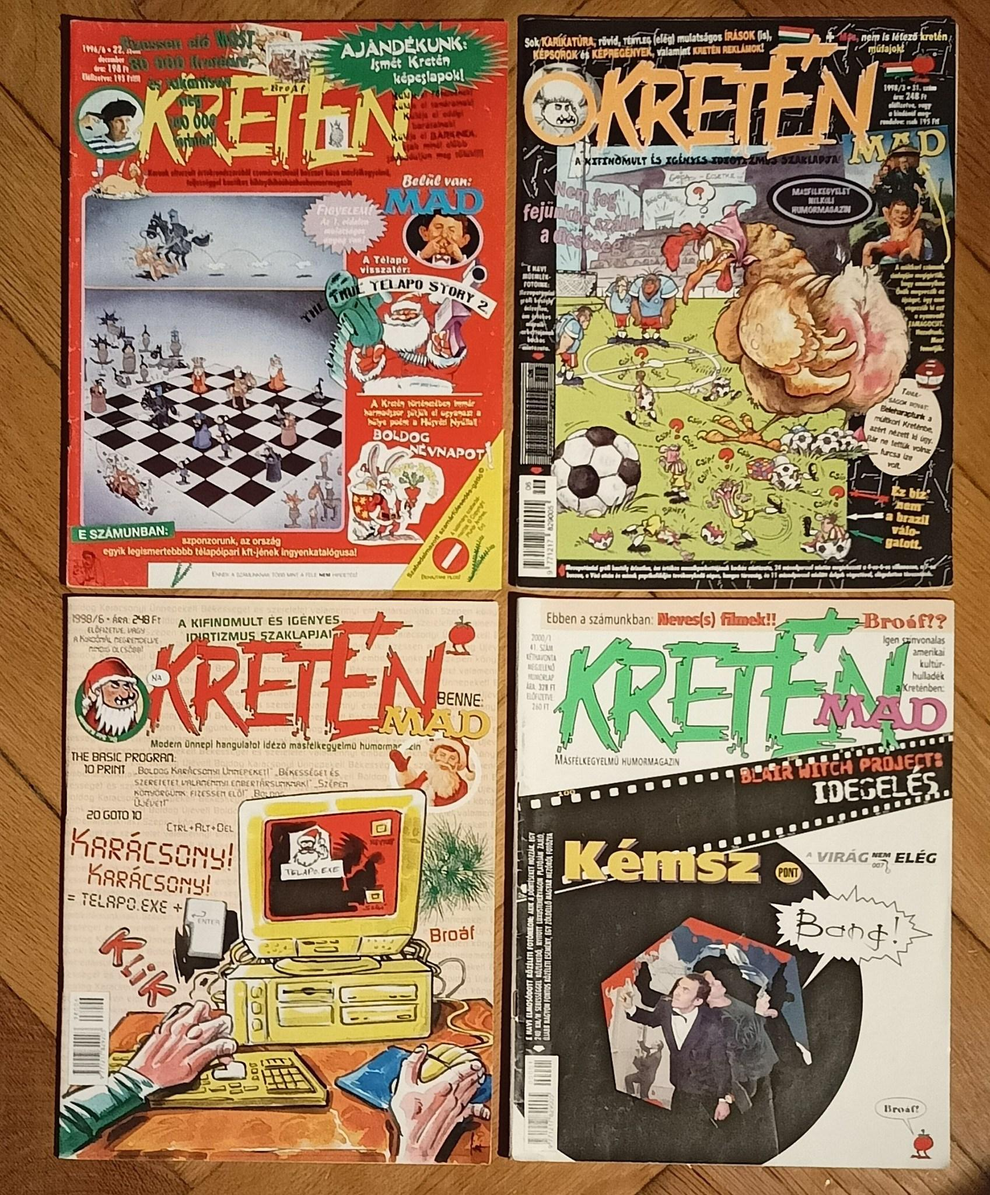comic: (510, 13, 956, 591), (510, 594, 956, 1168), (57, 596, 500, 1163), (65, 20, 505, 590)
